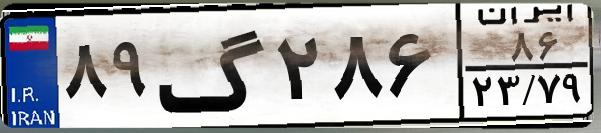2: (270, 28, 330, 110), (470, 70, 495, 125)
3: (495, 70, 520, 125)
6: (385, 28, 445, 110), (537, 27, 568, 80)
7: (535, 70, 560, 125)
8: (330, 28, 385, 110), (57, 26, 110, 100), (508, 27, 537, 80)
9: (110, 28, 156, 98), (560, 70, 590, 125)
گ: (156, 12, 270, 120)
